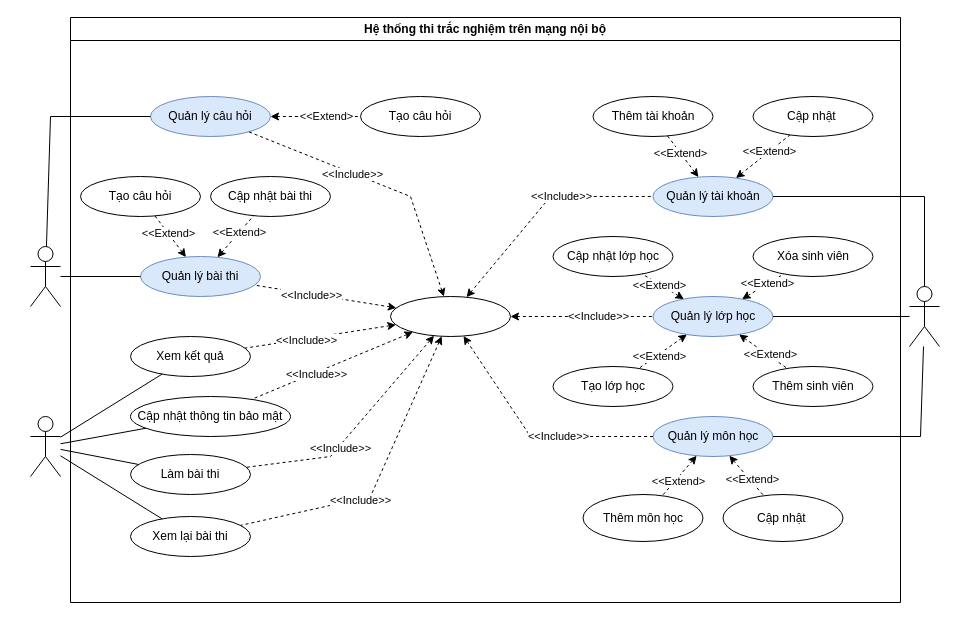
Image size: 959x620. Some labels were removed from this diagram. The shapes that lost their labels are listed below. From the top down, each one's box as (x1, y1, x2, y2) in pixels, then its label:
(30, 246, 60, 306): Giảng viên
(390, 296, 510, 336): Đăng nhập
(908, 286, 940, 346): Admin
(30, 416, 60, 476): Sinh Viên
